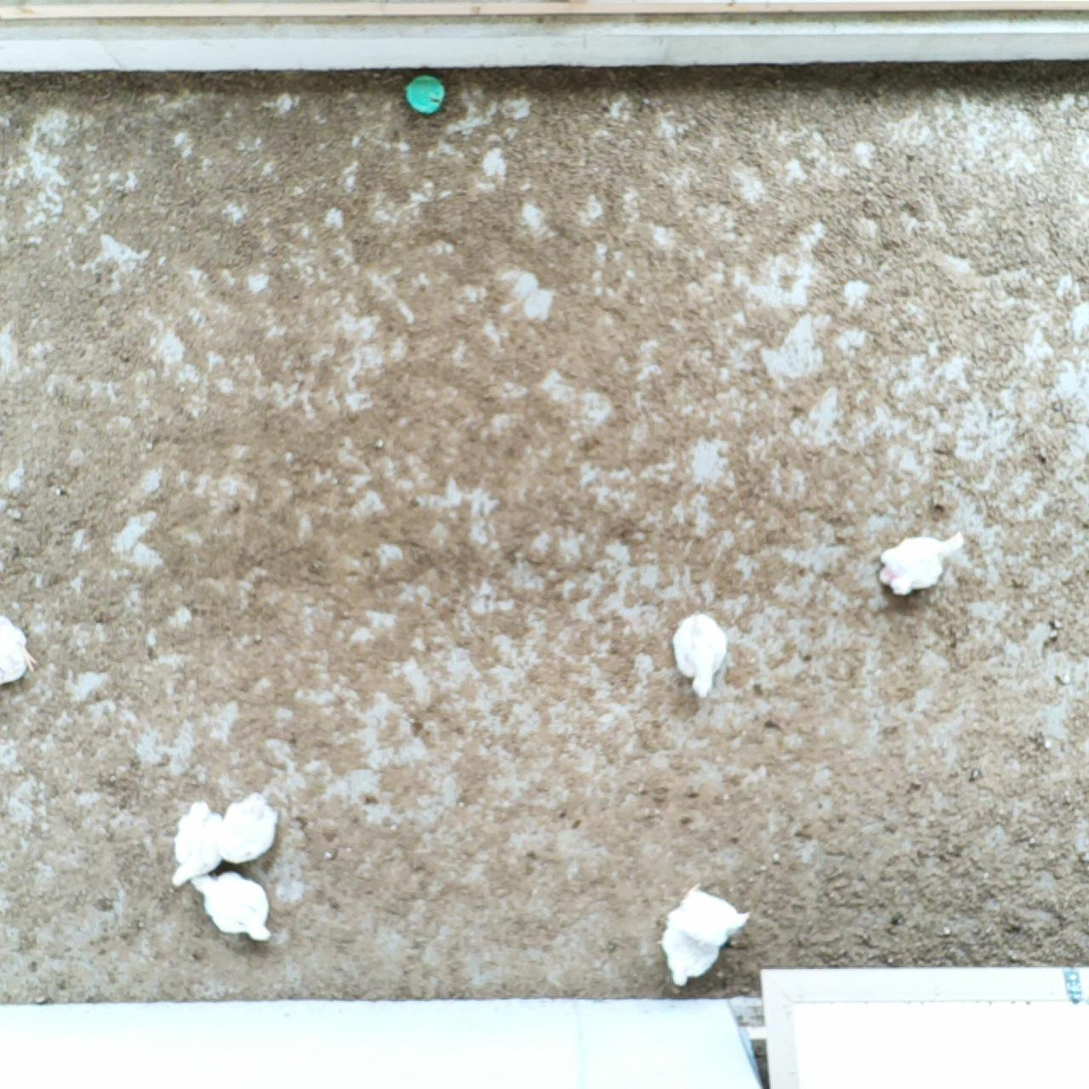chicken: (190, 862, 275, 946), (874, 527, 970, 600), (665, 879, 753, 950), (167, 796, 228, 892), (669, 607, 730, 701), (215, 786, 280, 873), (653, 921, 726, 990), (0, 611, 40, 694)
